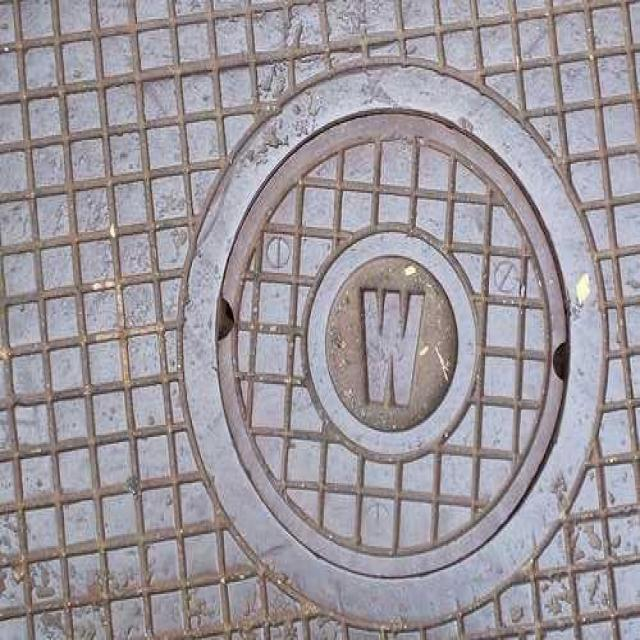manhole: (218, 115, 565, 574)
